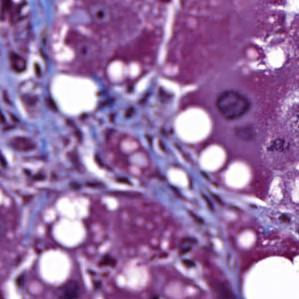inflammation: (168, 255, 208, 280)
